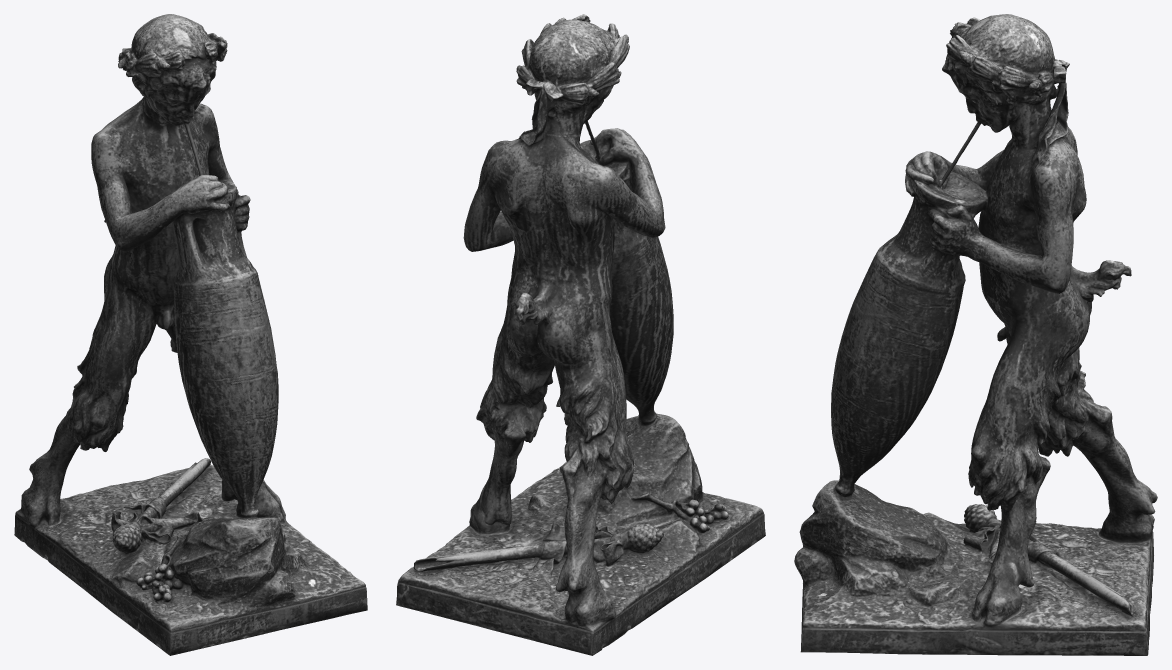
Rendered from satyr.glb.
3 views of the same model, side by side, from view 1: azimuth 30°, elevation 25°; view 2: azimuth 150°, elevation 25°; view 3: azimuth 270°, elevation 25° (orthographic). The views are drawn at different scales.
Parts seen in each view (by area): view 1: Object_2; view 2: Object_2; view 3: Object_2.
Part boxes in pixels (x1=…): Object_2: x1=14, y1=14, x2=367, y2=655; Object_2: x1=396, y1=14, x2=765, y2=655; Object_2: x1=794, y1=14, x2=1157, y2=655.
Size of the model in its own units: 0.7056 by 1.82 by 1.03.
1 material, 1 textured.
